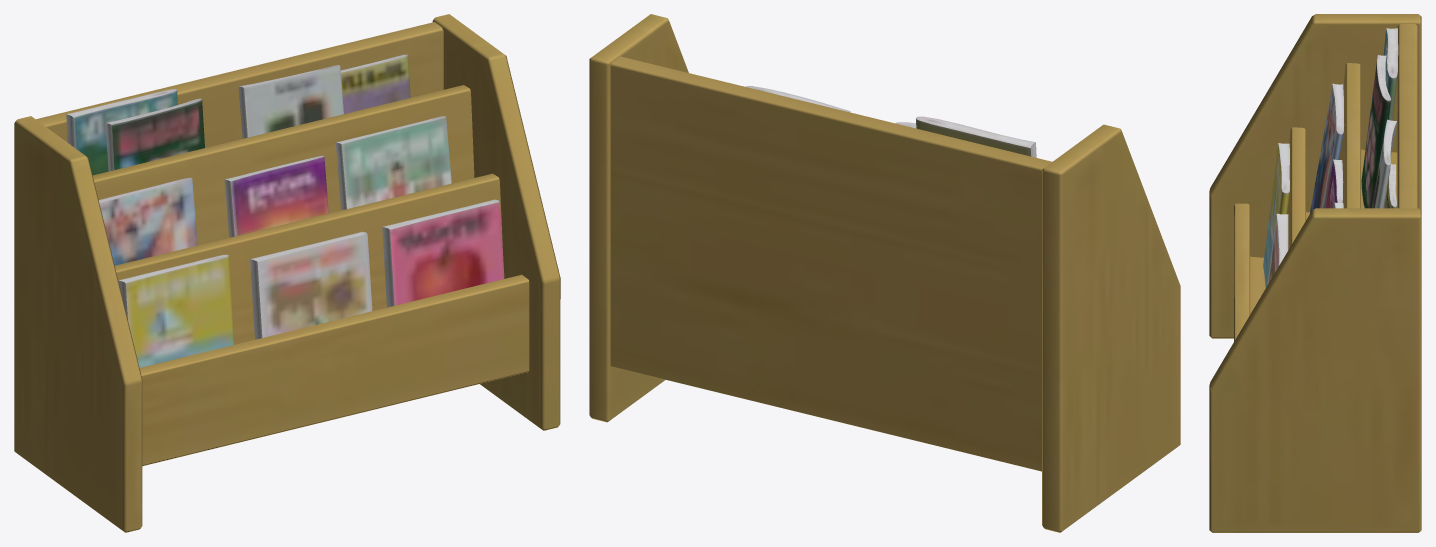
The picture shows the model from 3 angles, left to right: view 1: azimuth 30°, elevation 25°; view 2: azimuth 150°, elevation 25°; view 3: azimuth 270°, elevation 25°; orthographic projection. The views are drawn at different scales.
Bounding box in the file's own units: 16.23 × 12.01 × 7.17.
Materials: 1 (1 with a texture image).
